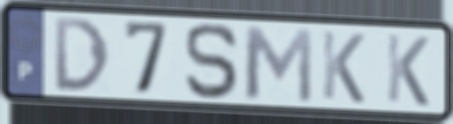7: (121, 18, 175, 97)
D: (51, 15, 112, 93)
K: (384, 31, 432, 110), (319, 28, 367, 107)
M: (239, 23, 315, 106)
S: (182, 20, 244, 102)
